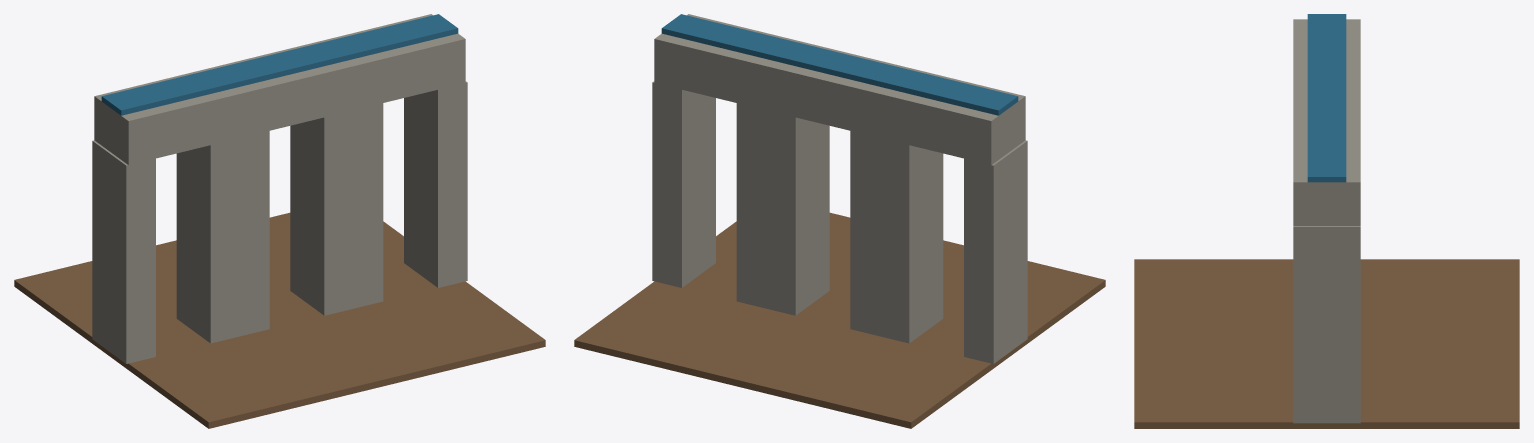
Rendered from bld_special_water_works_a02_lod1.glb.
3 views of the same model, side by side, from view 1: azimuth 30°, elevation 25°; view 2: azimuth 150°, elevation 25°; view 3: azimuth 270°, elevation 25° (orthographic).
Visible parts, largest first — view 1: body; view 2: body; view 3: body.
Boxes of the visible parts, x1,y1,x2,y2 form: body: [14, 14, 545, 428]; body: [574, 14, 1105, 428]; body: [1134, 14, 1519, 428].
Size of the model in its own units: 8.1 by 5.77 by 8.
